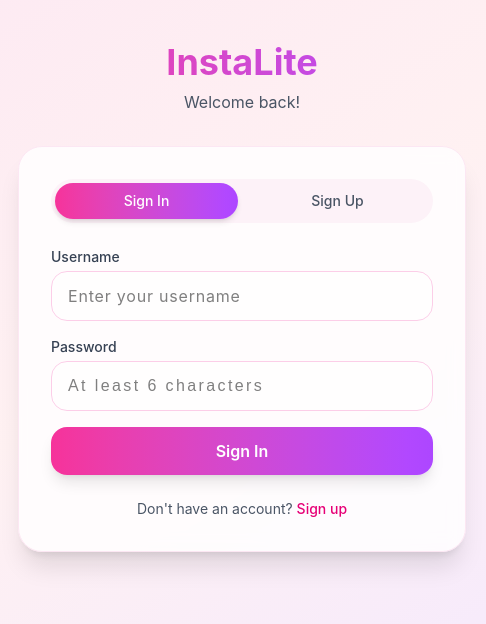
Test: Authentication › shows error when fields are empty
Click the submit button. click: coordinates (242, 451)
box: [51,427,433,475]
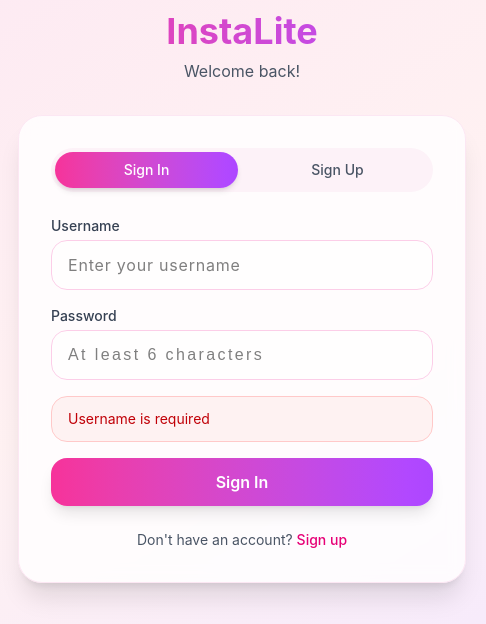
Now the text "Username is required" is shown, box [51,396,433,442]
